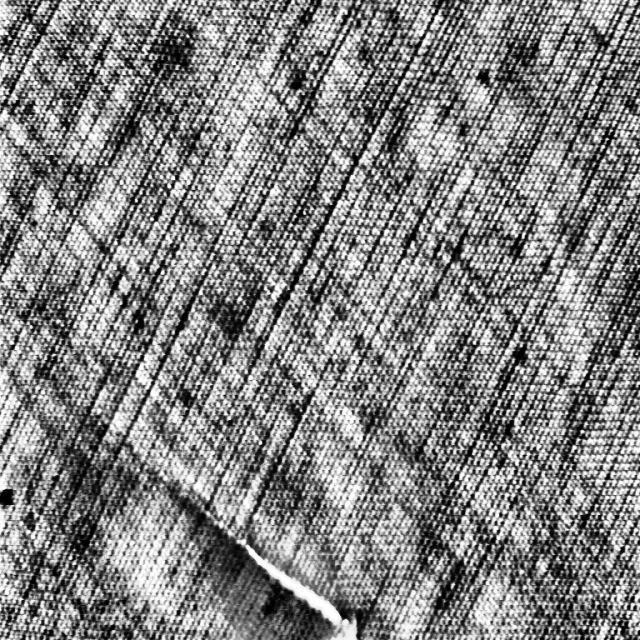gray stitch: (180, 483, 360, 638)
